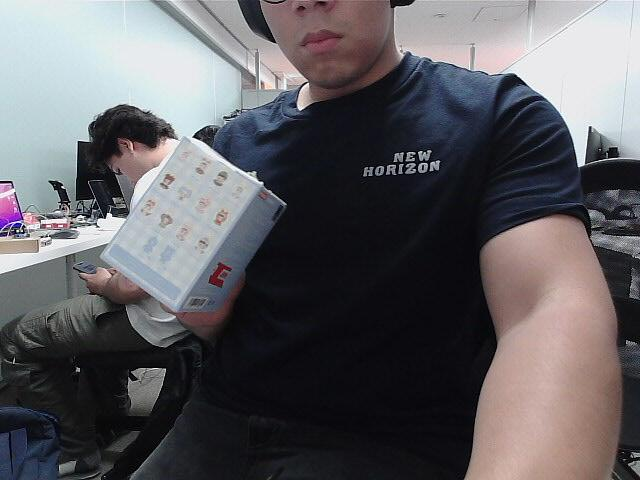Blind_box: (110, 132, 288, 312)
